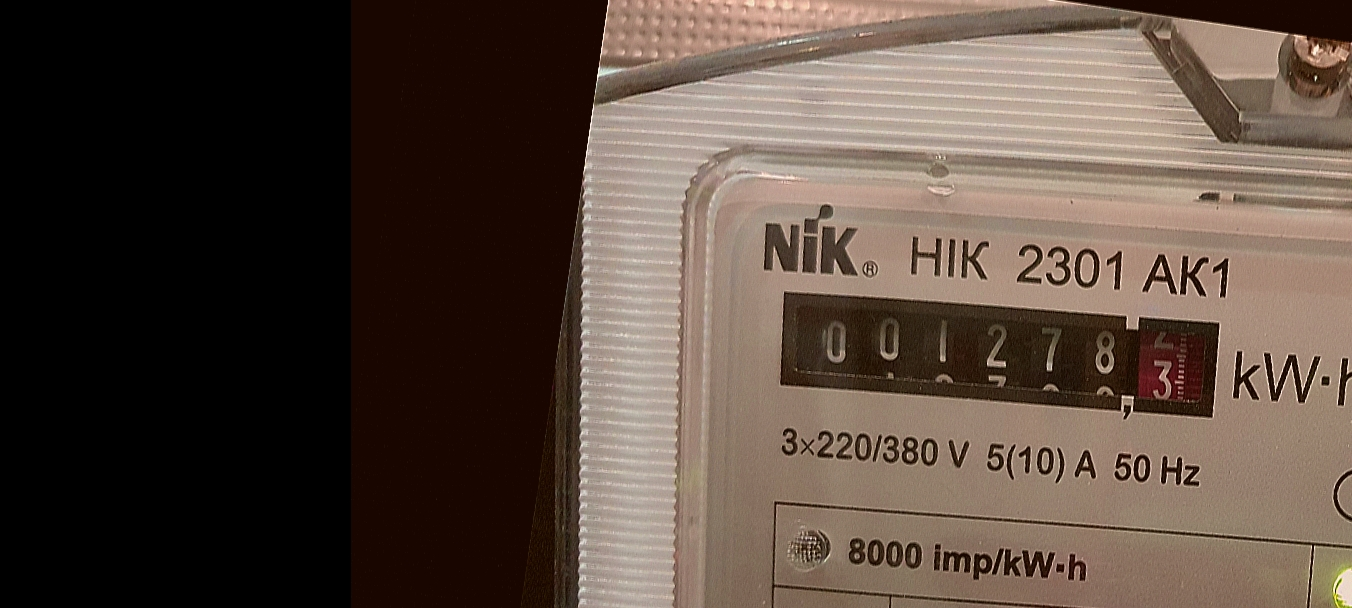0: (821, 315, 856, 367), (875, 314, 906, 363)
1: (933, 316, 957, 366)
2: (981, 320, 1015, 370), (1151, 329, 1179, 353)
3: (1148, 354, 1180, 401)
7: (1036, 323, 1065, 374)
8: (1090, 327, 1122, 377)
screen: (752, 248, 1245, 458)
